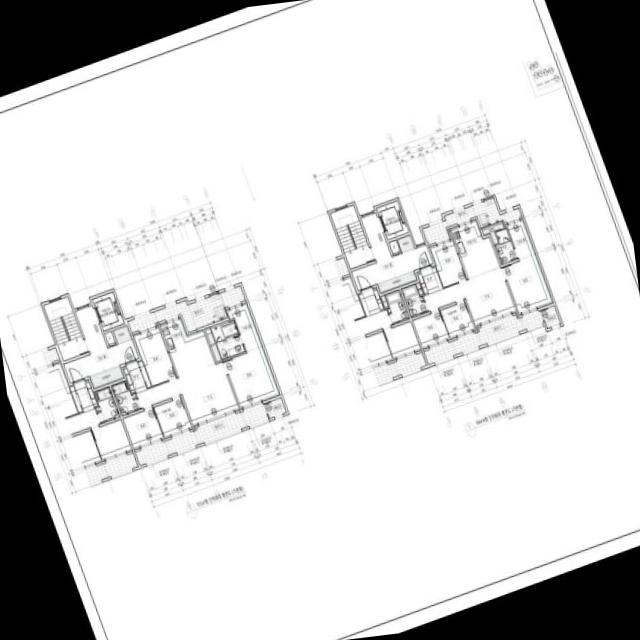background: (0, 0, 640, 640)
space_balconi: (135, 402, 267, 464), (423, 310, 543, 363), (127, 285, 245, 332), (422, 197, 521, 244)
space_bedroom: (223, 347, 278, 406), (502, 253, 551, 312), (134, 327, 176, 385), (430, 240, 466, 286), (122, 407, 163, 447), (153, 397, 191, 436), (412, 310, 448, 346), (440, 301, 474, 336)
space_dressroom: (227, 304, 261, 352), (506, 220, 534, 259)
space_elevator_hall: (351, 206, 432, 289), (63, 297, 138, 382)
space_front: (122, 360, 146, 392), (417, 265, 442, 294)
space_kitchen: (160, 319, 215, 377), (450, 221, 500, 279)
space_living_room: (136, 361, 238, 424), (423, 267, 515, 324)
space_other: (377, 270, 415, 291), (89, 364, 122, 387), (205, 328, 220, 361), (263, 397, 286, 417), (482, 223, 503, 243), (541, 305, 560, 327), (112, 325, 131, 343), (397, 234, 414, 252), (138, 361, 150, 386), (103, 330, 115, 344), (388, 239, 399, 252), (415, 282, 422, 294)
space_staircase: (43, 296, 87, 360), (329, 204, 373, 268)
space_toilet: (210, 320, 244, 359), (111, 380, 141, 415), (401, 284, 427, 316), (494, 228, 516, 263)
